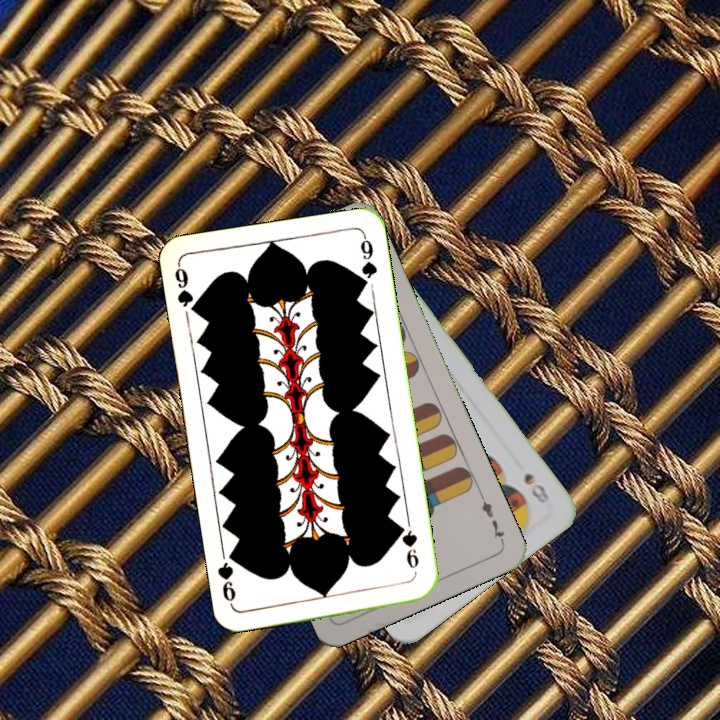E7: (476, 490, 507, 546)
G9: (170, 261, 202, 318), (395, 520, 421, 571)
S8: (519, 468, 553, 506)
